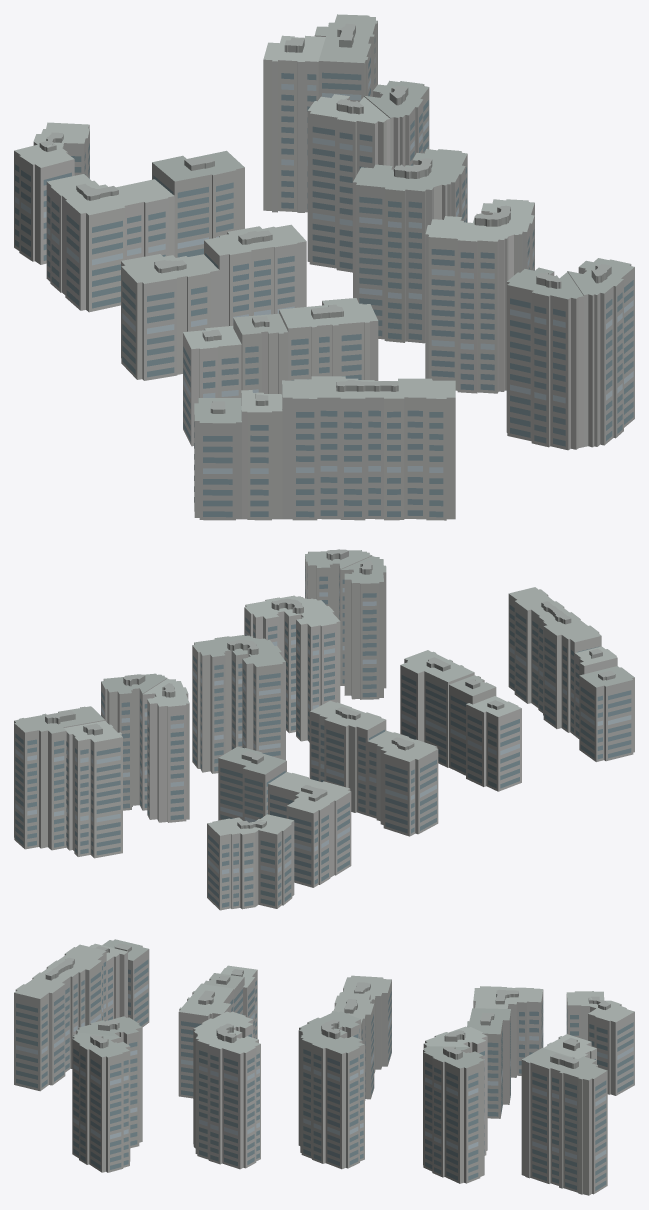
The model's file is apt-a12179508.glb.
3 renders of one model, top to bottom at view 1: azimuth 30°, elevation 25°; view 2: azimuth 150°, elevation 25°; view 3: azimuth 270°, elevation 25°, orthographic. The views are drawn at different scales.
Parts seen in each view (by area): view 1: apt-a12179508; view 2: apt-a12179508; view 3: apt-a12179508.
Boxes of the visible parts, x1,y1,x2,y2 form: apt-a12179508: (14, 14, 634, 520); apt-a12179508: (14, 549, 634, 910); apt-a12179508: (14, 939, 634, 1195).
Size of the model in its own units: 146 by 45 by 210.
